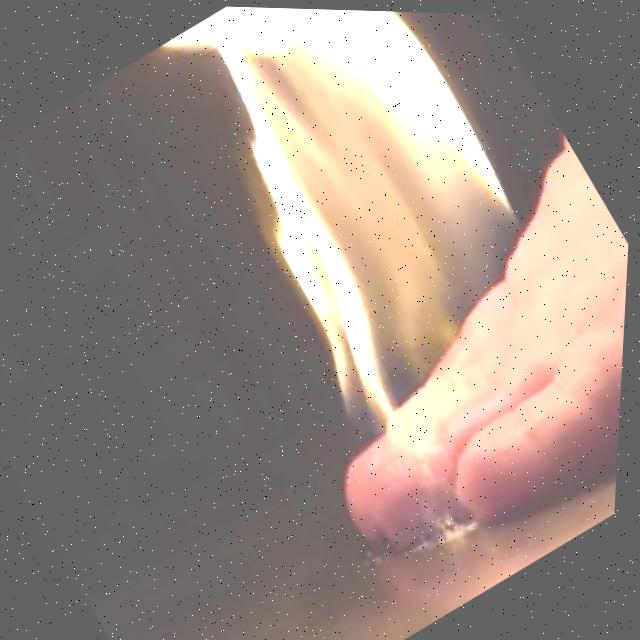Fire: (117, 3, 635, 482)
